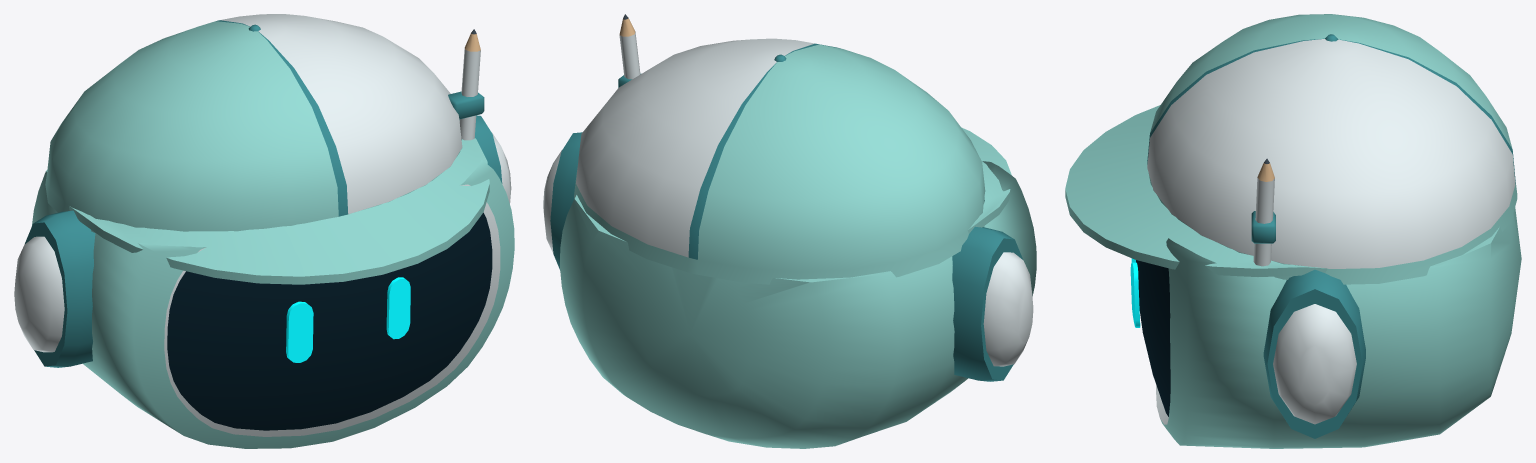
Rendered from copilot_analyst_v01.glb.
The picture shows the model from 3 angles, left to right: view 1: azimuth 30°, elevation 25°; view 2: azimuth 150°, elevation 25°; view 3: azimuth 270°, elevation 25°; orthographic projection. The views are drawn at different scales.
Visible parts, largest first — view 1: analyst_model; view 2: analyst_model; view 3: analyst_model.
Part boxes in pixels (<box>): analyst_model: <box>14,14,514,448</box>; analyst_model: <box>543,14,1036,448</box>; analyst_model: <box>1065,14,1521,448</box>.
Size of the model in its own units: 2.82 by 2.02 by 2.23.
2 materials, 2 textured.
